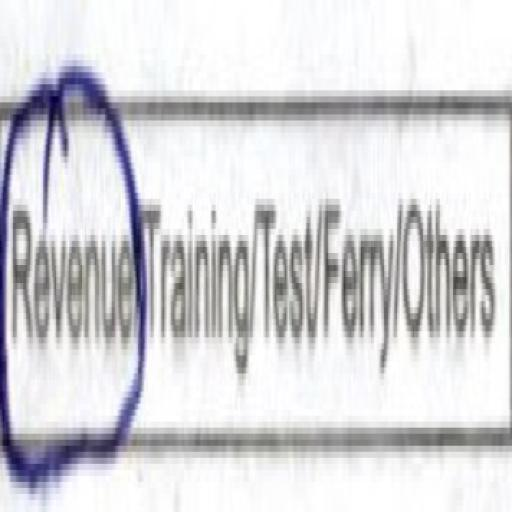check: (0, 12, 140, 506)
